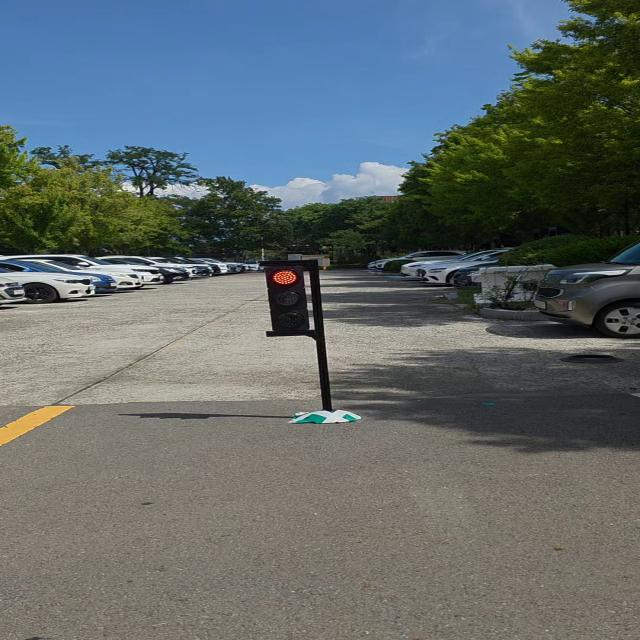red: (259, 258, 322, 336)
